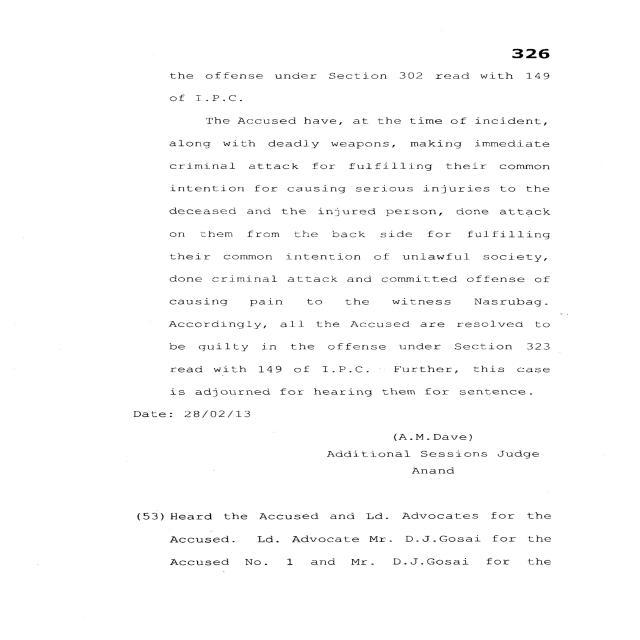page-number: (416, 1, 635, 64)
